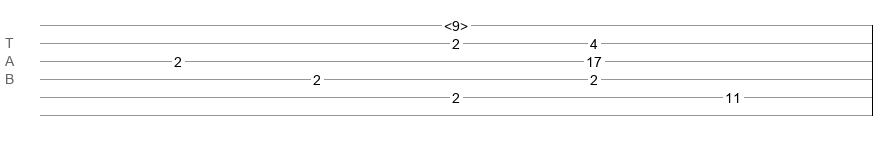11: (725, 90, 741, 100)
17: (586, 54, 602, 64)
2: (174, 54, 182, 64), (313, 72, 321, 82), (452, 36, 460, 46), (452, 90, 460, 100), (590, 72, 598, 82)
4: (590, 36, 598, 46)
harmonic: (444, 18, 468, 28)
